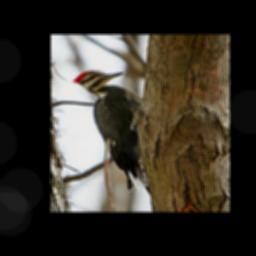Woodpecker: (71, 69, 151, 195)
